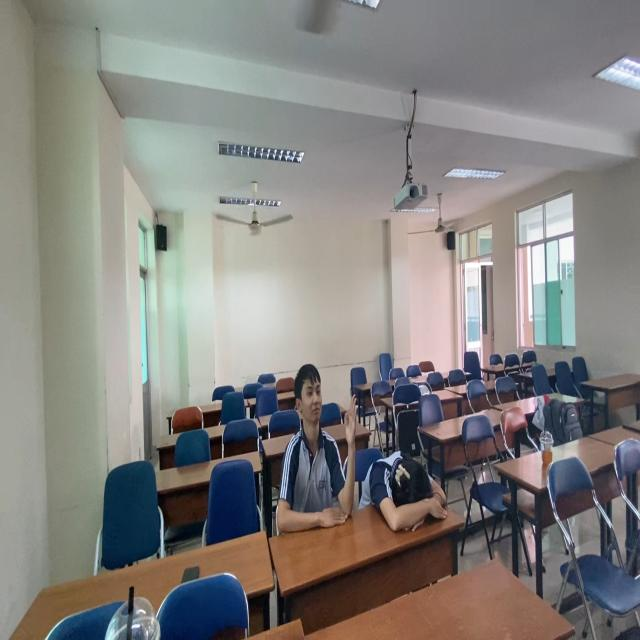raise_hand: (271, 354, 360, 531)
sleep: (356, 441, 455, 541)
